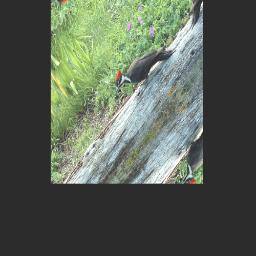Woodpecker: (108, 21, 176, 113)
